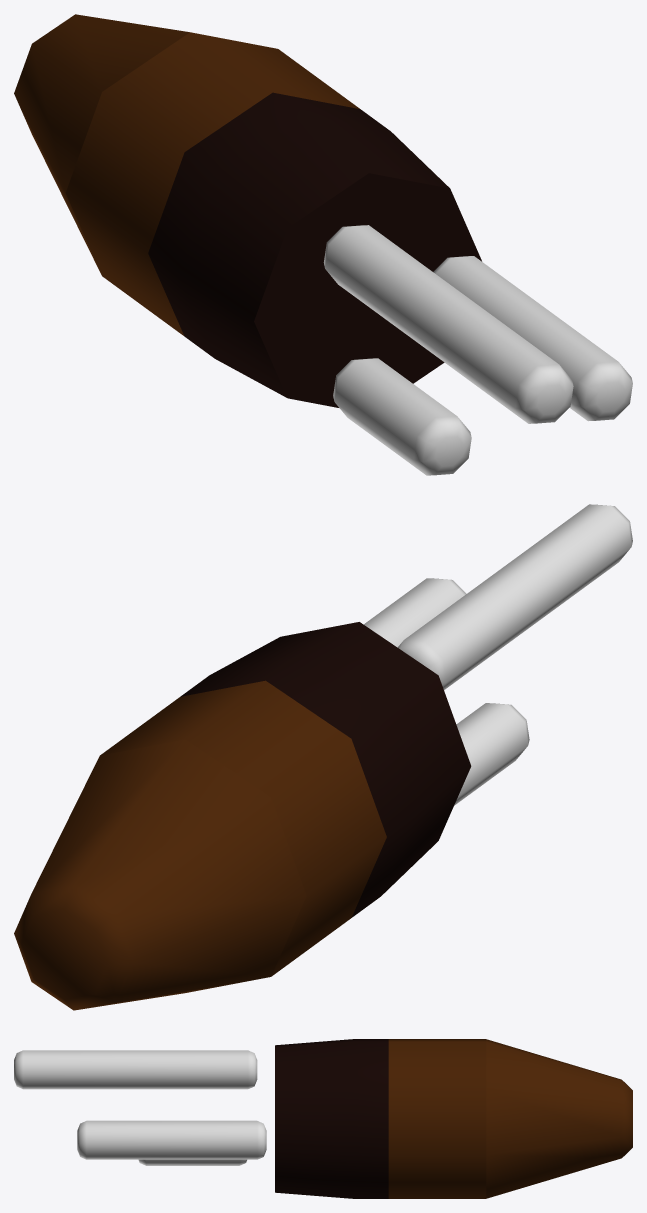
Rendered from FastBulletPickup.fbx.
3 views of the same model, one above another, from view 1: azimuth 30°, elevation 25°; view 2: azimuth 150°, elevation 25°; view 3: azimuth 270°, elevation 25° (orthographic). The views are drawn at different scales.
Parts seen in each view (by area): view 1: FastBullet; view 2: FastBullet; view 3: FastBullet.
Part boxes in pixels (x1,y1,x2,y2): FastBullet: [14, 14, 632, 475]; FastBullet: [14, 504, 632, 1010]; FastBullet: [14, 1039, 632, 1198].
Bounding box in the file's own units: 25.39 × 25.39 × 92.47.
